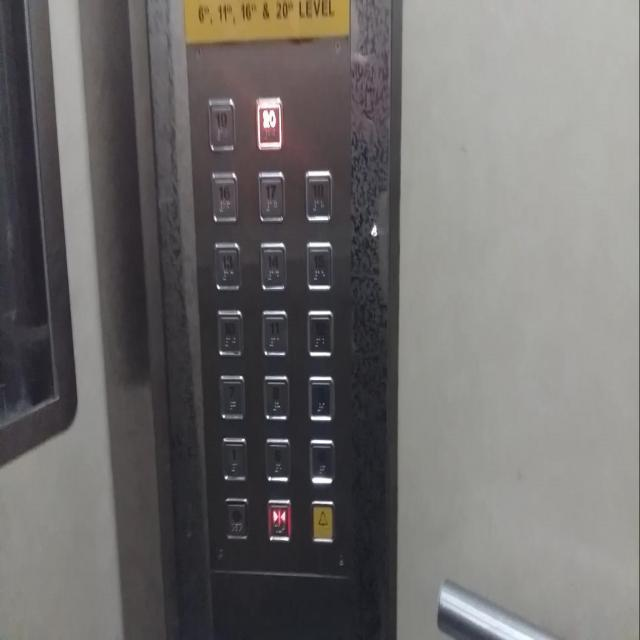1: (220, 433, 248, 485)
10: (215, 305, 243, 359)
11: (260, 306, 289, 359)
12: (306, 306, 335, 359)
13: (212, 238, 242, 292)
14: (258, 237, 288, 293)
15: (305, 238, 334, 294)
16: (209, 166, 240, 226)
17: (257, 168, 286, 224)
18: (303, 167, 333, 223)
19: (206, 94, 237, 154)
20: (253, 92, 284, 152)
7: (218, 370, 247, 422)
8: (262, 371, 290, 423)
alarm: (309, 496, 335, 546)
blur: (262, 433, 292, 486), (307, 434, 336, 487), (306, 372, 335, 424), (222, 494, 250, 544)
close: (266, 495, 292, 545)
